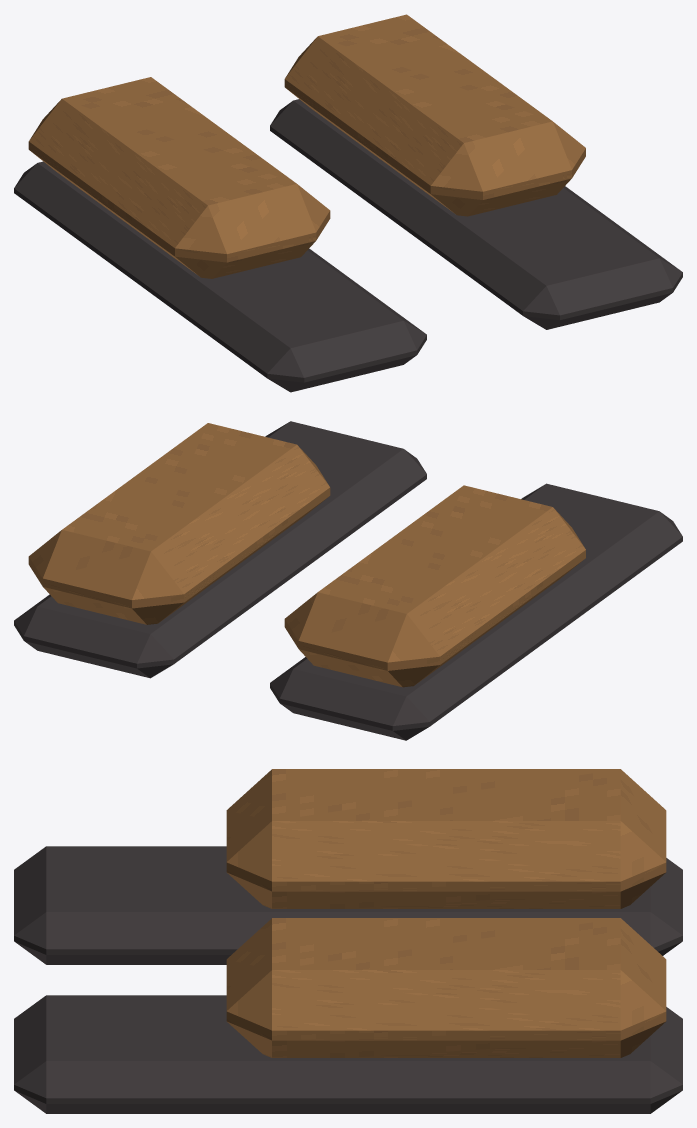
The model's file is slippers.glb.
3 views of the same model, one above another, from view 1: azimuth 30°, elevation 25°; view 2: azimuth 150°, elevation 25°; view 3: azimuth 270°, elevation 25° (orthographic). The views are drawn at different scales.
Parts seen in each view (by area): view 1: block_vamp and toe (×2), block_shaped sole (×2); view 2: block_vamp and toe (×2), block_shaped sole (×2); view 3: block_vamp and toe (×2), block_shaped sole (×2).
Boxes of the visible parts, x1,y1,x2,y2 form: block_vamp and toe (×2): (28, 14, 585, 278); block_shaped sole (×2): (14, 99, 682, 392); block_vamp and toe (×2): (28, 423, 585, 687); block_shaped sole (×2): (14, 421, 682, 740); block_vamp and toe (×2): (226, 769, 666, 1057); block_shaped sole (×2): (14, 846, 682, 1113).
Size of the model in its own units: 0.1068 by 0.0282 by 0.1247.
1 material, 1 textured.
